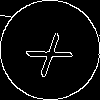X: (25, 25, 82, 79)
